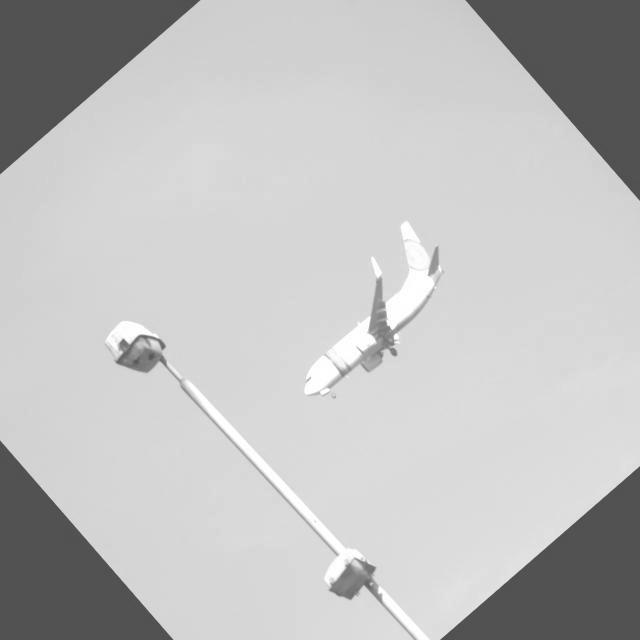aeroplane: (263, 211, 477, 415)
